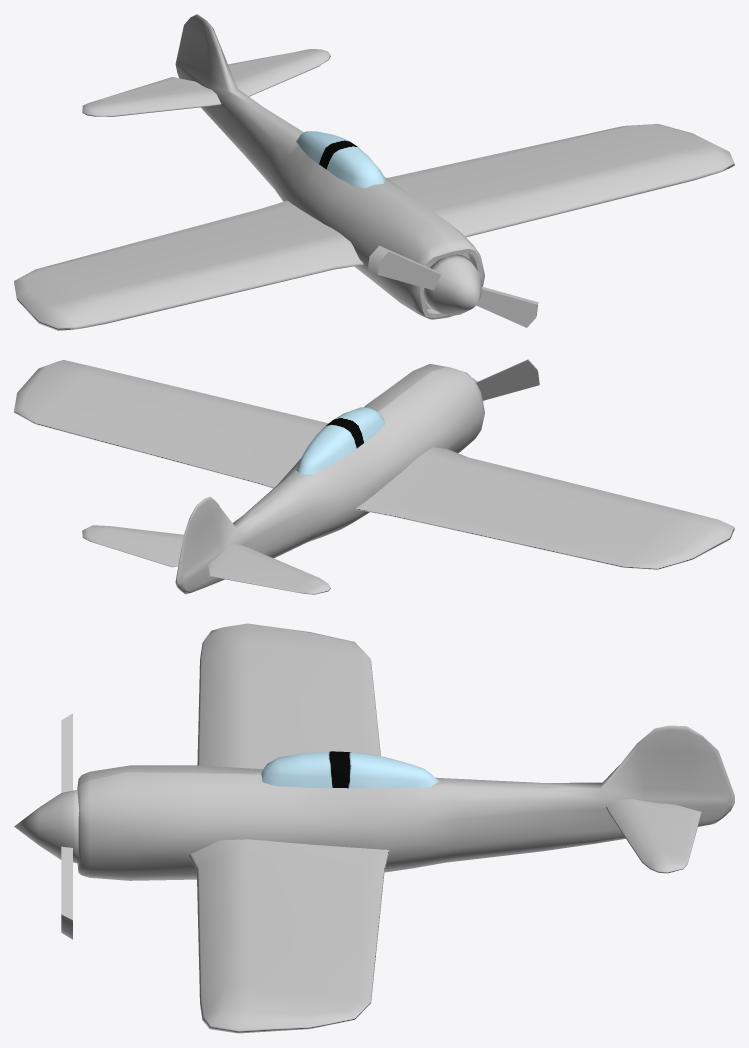
The model's file is aviaoinimigo.fbx.
3 renders of one model, top to bottom at view 1: azimuth 30°, elevation 25°; view 2: azimuth 150°, elevation 25°; view 3: azimuth 270°, elevation 25°, orthographic. The views are drawn at different scales.
Parts seen in each view (by area): view 1: polySurface10, polySurface1, polySurface9; view 2: polySurface10, polySurface9, polySurface1; view 3: polySurface10, polySurface9, polySurface1.
Part boxes in pixels (x1,y1,x2,y2): polySurface10: [14, 14, 734, 330]; polySurface1: [367, 245, 538, 327]; polySurface9: [296, 131, 385, 188]; polySurface10: [14, 360, 734, 594]; polySurface9: [296, 407, 384, 474]; polySurface1: [472, 359, 539, 402]; polySurface10: [77, 623, 734, 1033]; polySurface9: [261, 751, 438, 788]; polySurface1: [14, 713, 79, 939].
Size of the model in its own units: 27.99 by 5.55 by 21.12.
